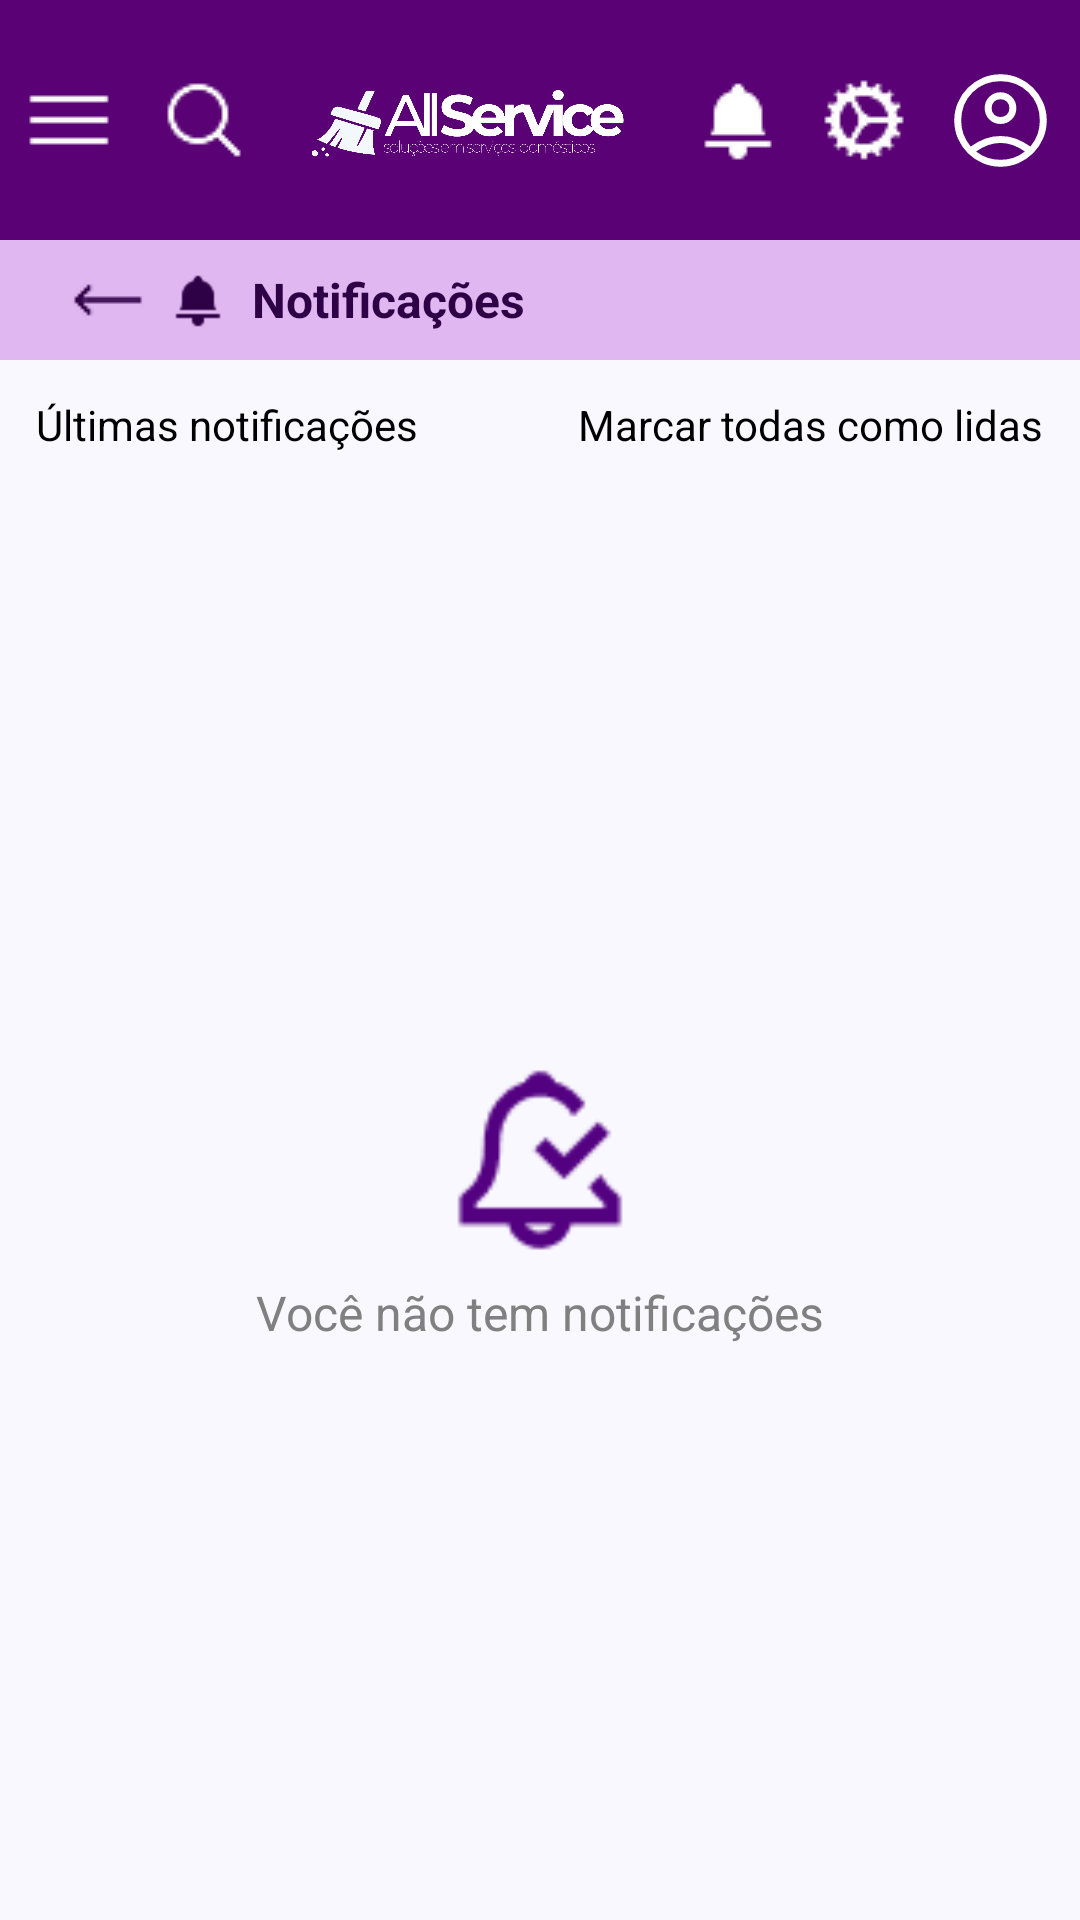

Icons on this 1080×1920 Android screen, each with its box as (x1, y1, x2, y2):
menu: (29, 95, 109, 145)
notification: (704, 83, 772, 160), (175, 275, 221, 327)
notifications done: (458, 1070, 622, 1250)
person: (954, 74, 1047, 167)
search: (167, 83, 241, 157)
settings: (824, 80, 904, 160)
Voltar: (74, 284, 142, 316)
